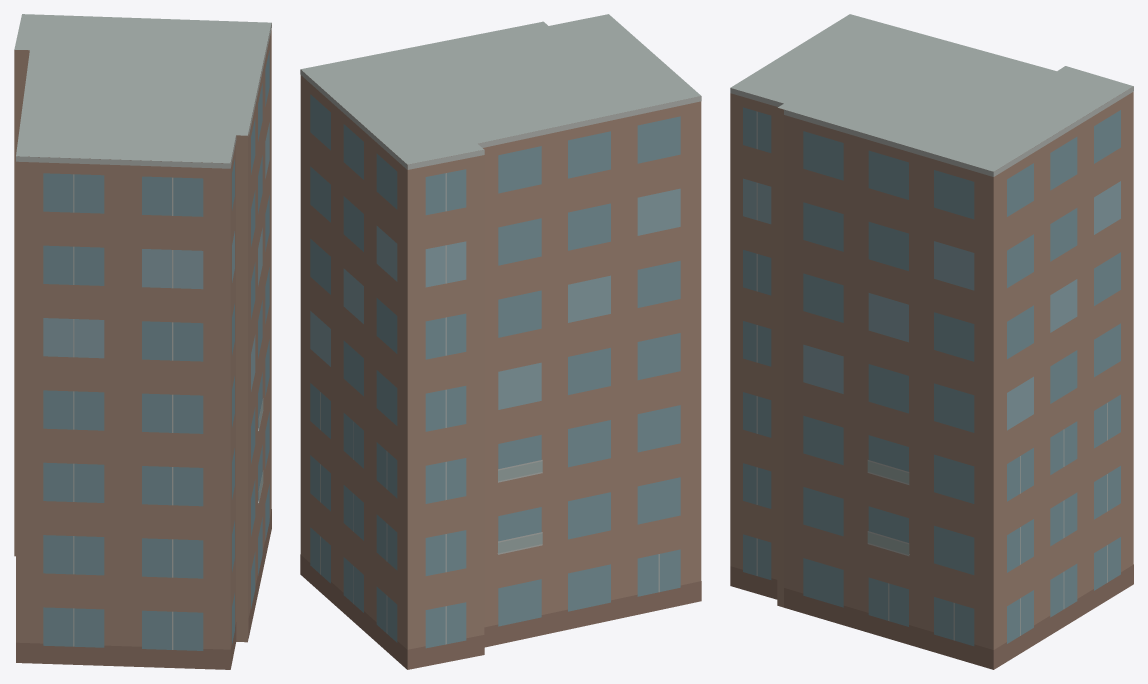
File: survey-upis-33011428.glb
3 renders of one model, left to right at view 1: azimuth 30°, elevation 25°; view 2: azimuth 150°, elevation 25°; view 3: azimuth 270°, elevation 25°, orthographic.
Parts seen in each view (by area): view 1: survey-upis-33011428.tmp; view 2: survey-upis-33011428.tmp; view 3: survey-upis-33011428.tmp.
Part boxes in pixels (x1=…): survey-upis-33011428.tmp: x1=14, y1=14, x2=271, y2=669; survey-upis-33011428.tmp: x1=300, y1=14, x2=701, y2=669; survey-upis-33011428.tmp: x1=730, y1=14, x2=1133, y2=669.
Bounding box in the file's own units: 15.57 × 22.9 × 16.82.
